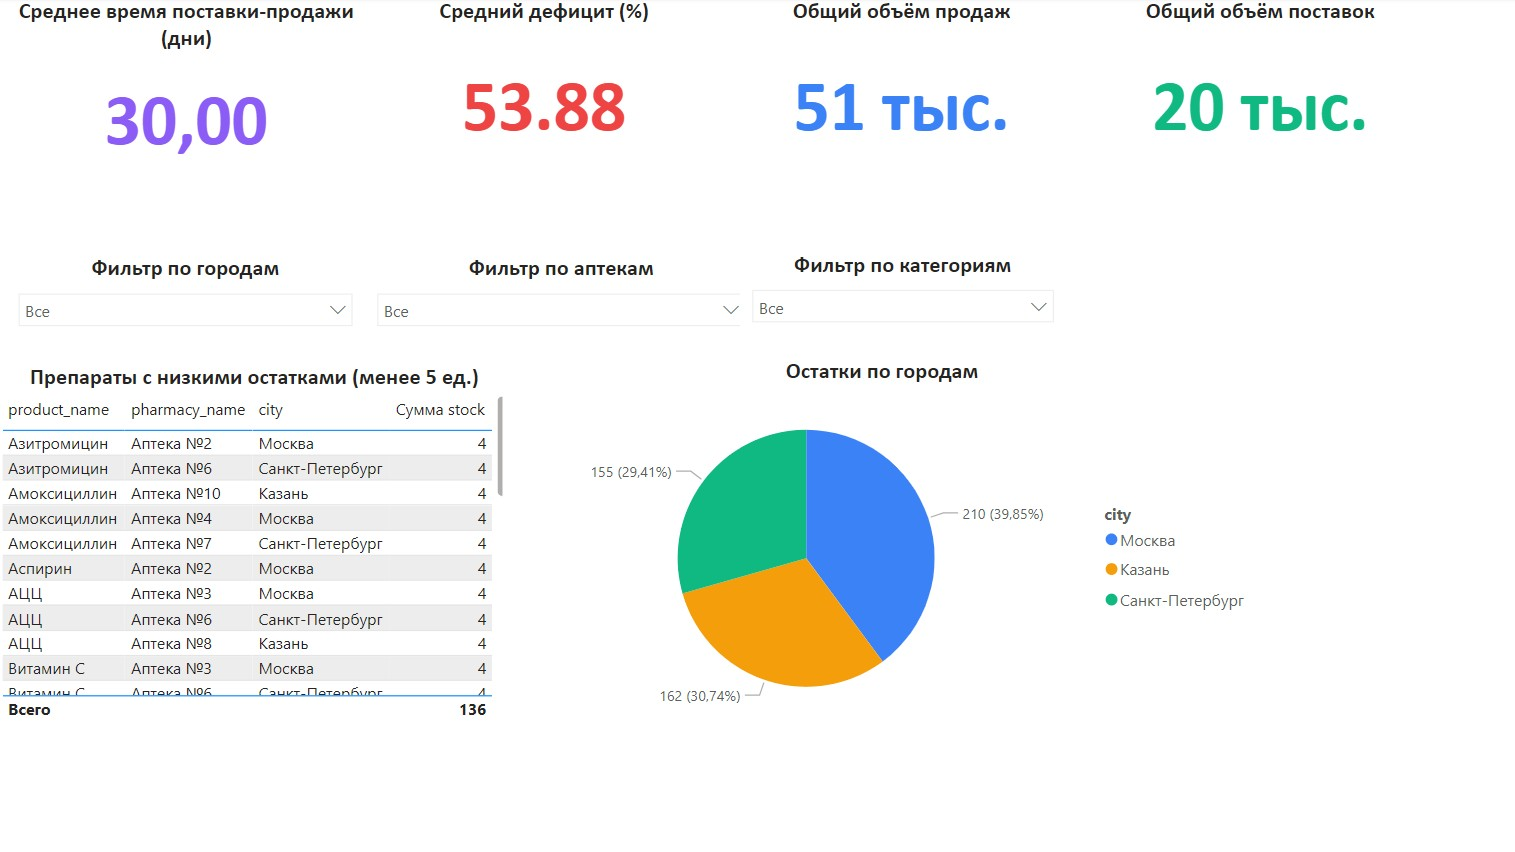

This screenshot's page, from the dashboard's own definition file:
{"tool":"powerbi","page":{"name":"Дефицит и логистика","canvas":[1280,720],"ordinal":1},"visuals":[{"type":"card","title":"Среднее время поставки-продажи (дни)","fields":{"Values":["sales (2).AvgDaysBetweenSupplyAndSale"]},"box":[10,0,300,150],"z":0},{"type":"card","title":"Средний дефицит (%)","fields":{"Values":["Min(avg_shortage_percent (2).Column1)"]},"box":[310.1,0,300.5,149.6],"z":1000},{"type":"card","title":"Общий объём продаж","fields":{"Values":["Sum(total_sales (2).total_sales)"]},"box":[610.6,0,300.5,149.6],"z":2000},{"type":"card","title":"Общий объём поставок","fields":{"Values":["Sum(total_supply (2).total_supply)"]},"box":[911.2,0,300.5,149.6],"z":3000},{"type":"slicer","title":"Фильтр по городам","fields":{"Values":["pharmacies (2).city"]},"box":[9.6,215.4,300.5,91.9],"z":4000},{"type":"slicer","title":"Фильтр по аптекам","fields":{"Values":["pharmacies (2).pharmacy_name"]},"box":[310.1,215.4,329.3,98.8],"z":5000},{"type":"slicer","title":"Фильтр по категориям","fields":{"Values":["products (2).category"]},"box":[624.4,212.7,273.1,98.8],"z":6000},{"type":"tableEx","title":"Препараты с низкими остатками (менее 5 ед.)","fields":{"Values":["products (2).product_name","pharmacies (2).pharmacy_name","pharmacies (2).city","Sum(inventory (3).stock)"]},"box":[0,307.4,435,304.6],"z":7000},{"type":"pieChart","title":"Остатки по городам","fields":{"Category":["pharmacies (2).city"],"Y":["inventory (3).InventoryByCity"]},"box":[425.4,301.9,636.7,315.6],"z":9000}]}

Visuals, with their boxes in screenshot pixels (x1, y1, x2, y2), scaled from the page's 1280x720 canvas onto the 1515x852 screenshot:
"Среднее время поставки-продажи (дни)" card: {"left": 12, "top": 0, "right": 367, "bottom": 178}
"Средний дефицит (%)" card: {"left": 367, "top": 0, "right": 723, "bottom": 177}
"Общий объём продаж" card: {"left": 723, "top": 0, "right": 1078, "bottom": 177}
"Общий объём поставок" card: {"left": 1078, "top": 0, "right": 1434, "bottom": 177}
"Фильтр по городам" slicer: {"left": 11, "top": 255, "right": 367, "bottom": 364}
"Фильтр по аптекам" slicer: {"left": 367, "top": 255, "right": 757, "bottom": 372}
"Фильтр по категориям" slicer: {"left": 739, "top": 252, "right": 1062, "bottom": 369}
"Препараты с низкими остатками (менее 5 ед.)" tableEx: {"left": 0, "top": 364, "right": 515, "bottom": 724}
"Остатки по городам" pieChart: {"left": 504, "top": 357, "right": 1257, "bottom": 731}
